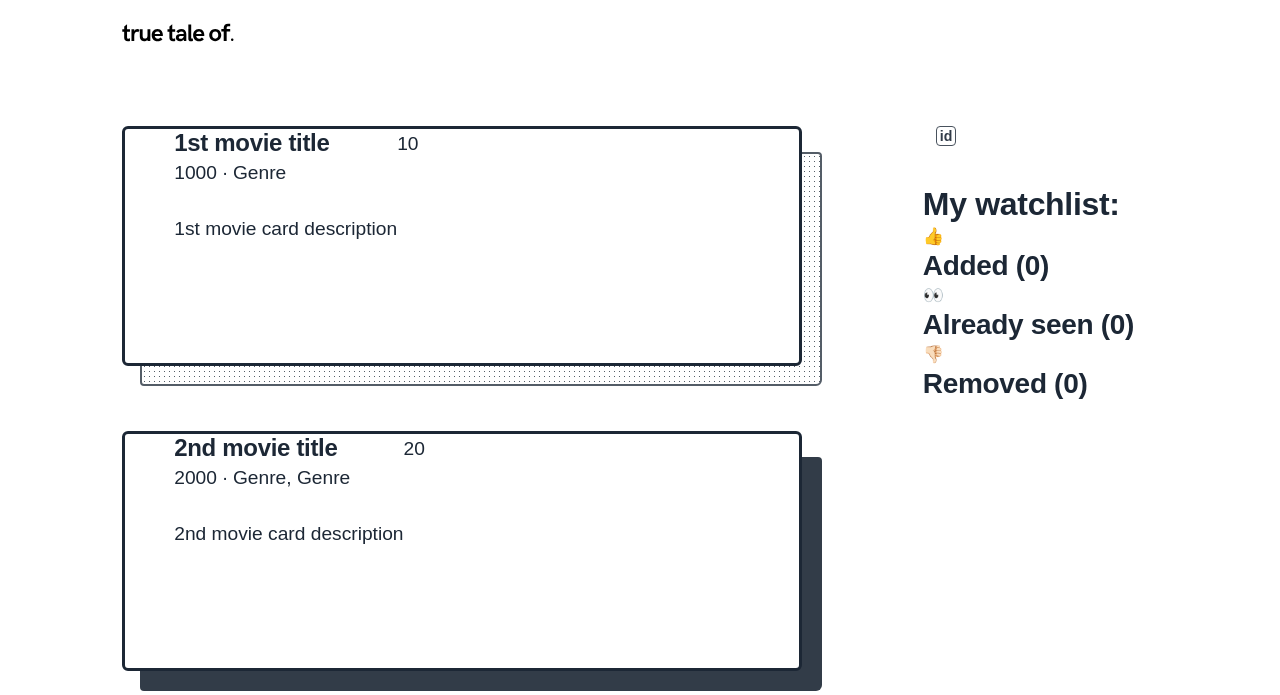
Test: Movie card › should display ADD and REMOVE buttons when hovered
The image size is (1280, 695).
Hover over the element with test id "cy-movie-card" that starts with "1st movie title": (462, 246) 122,126 -> 802,366
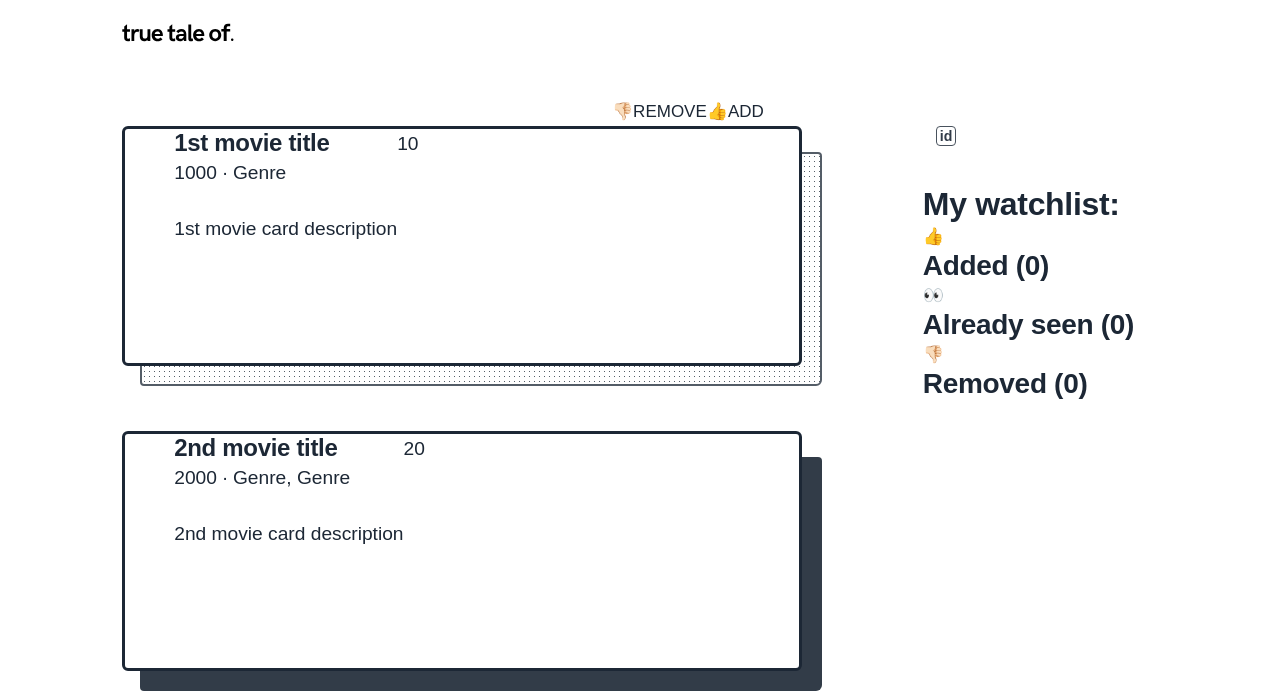
Expected: the button "👍ADD" is shown, 707,99 -> 764,124
Expected: the button "👎🏻REMOVE" is shown, 612,99 -> 707,124
